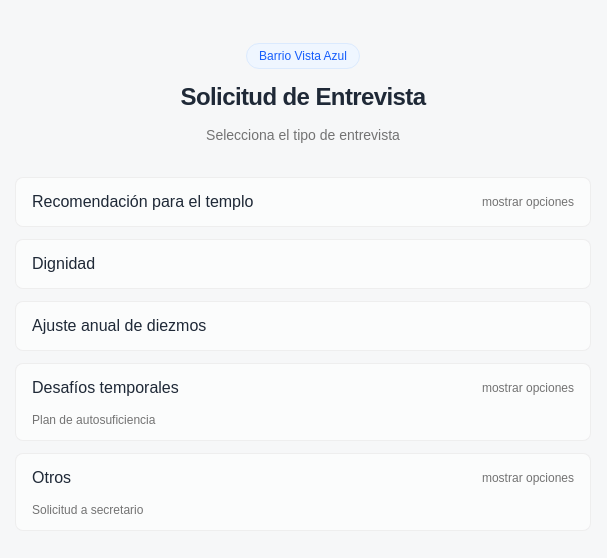
Scenario: Home Page › Expandable Options › expands Otros when clicked
Click the button "Otros mostrar opciones" at (52, 478), box [16,454,590,502]
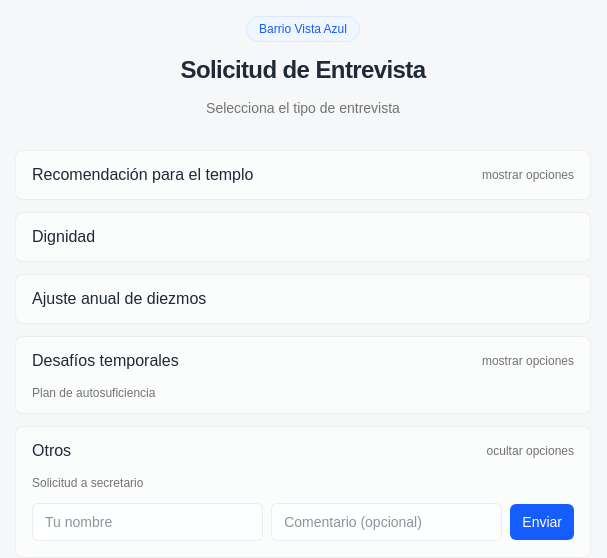
Expected: the field with placeholder "Tu nombre" is shown, [32,503,263,541]
Expected: the field with placeholder "Comentario (opcional)" is shown, [271,503,502,541]
Expected: the button "Enviar" is shown, [510,504,574,540]
